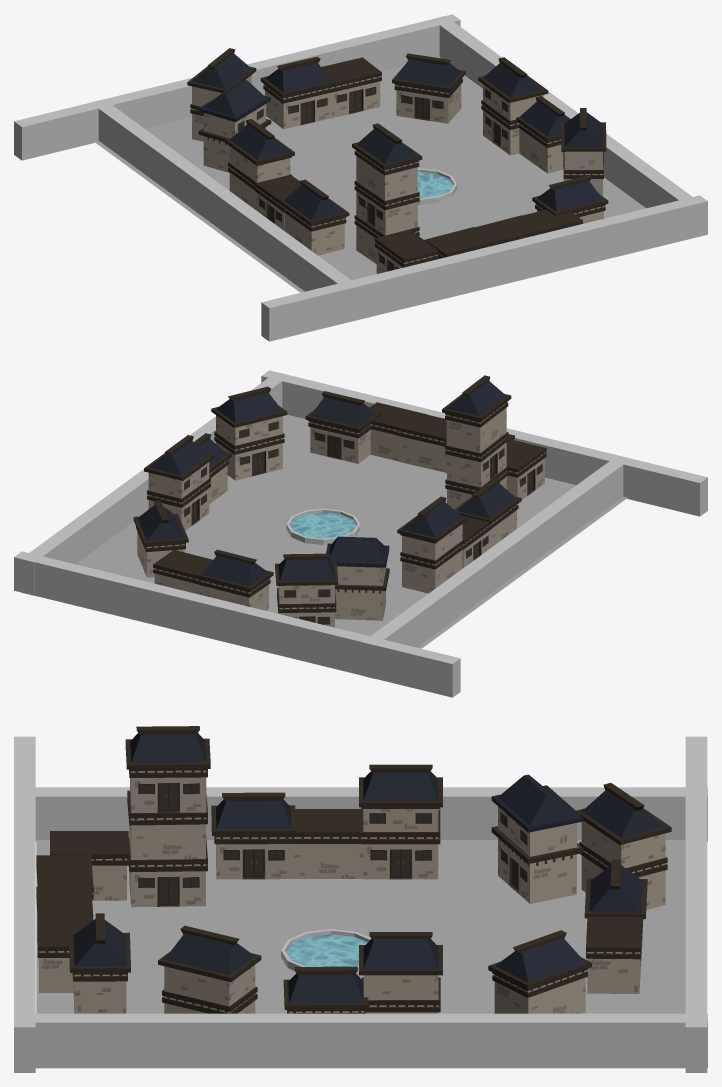
Rendered from main_hub.fbx.
The picture shows the model from 3 angles, top to bottom: view 1: azimuth 30°, elevation 25°; view 2: azimuth 150°, elevation 25°; view 3: azimuth 270°, elevation 25°; orthographic projection. The views are drawn at different scales.
Parts seen in each view (by area): view 1: Floor_Comb, polySurface55, polySurface54, polySurface53, polySurface16, polySurface35, polySurface29, polySurface41, polySurface44, polySurface24, polySurface1, polySurface38 (+13 smaller); view 2: Floor_Comb, polySurface54, polySurface53, polySurface55, polySurface16, polySurface42, polySurface24, polySurface1, polySurface41, polySurface30, polySurface43, polySurface44 (+13 smaller); view 3: Floor_Comb, polySurface16, polySurface53, polySurface24, polySurface1, polySurface54, polySurface55, polySurface42, polySurface30, polySurface38, polySurface44, polySurface35 (+14 smaller).
Part boxes in pixels (x1,y1,x2,y2): Floor_Comb: [94, 57, 645, 292]; polySurface55: [261, 195, 707, 341]; polySurface54: [14, 14, 460, 160]; polySurface53: [90, 99, 356, 291]; polySurface16: [432, 16, 698, 208]; polySurface35: [392, 53, 465, 123]; polySurface29: [260, 56, 336, 129]; polySurface41: [478, 57, 548, 155]; polySurface44: [352, 123, 422, 200]; polySurface24: [225, 119, 294, 210]; polySurface1: [198, 79, 271, 172]; polySurface38: [279, 179, 349, 255]; Floor_Comb: [76, 414, 627, 648]; polySurface54: [14, 551, 460, 697]; polySurface53: [362, 457, 627, 678]; polySurface55: [261, 370, 707, 516]; polySurface16: [21, 373, 287, 595]; polySurface42: [211, 386, 287, 480]; polySurface24: [397, 496, 467, 593]; polySurface1: [326, 536, 389, 620]; polySurface41: [144, 435, 213, 530]; polySurface30: [275, 553, 338, 627]; polySurface43: [305, 391, 381, 463]; polySurface44: [442, 375, 511, 452]; Floor_Comb: [36, 840, 685, 1013]; polySurface16: [21, 1013, 707, 1068]; polySurface53: [20, 787, 707, 841]; polySurface24: [359, 764, 442, 879]; polySurface1: [491, 774, 583, 903]; polySurface54: [685, 736, 707, 1072]; polySurface55: [14, 736, 35, 1072]; polySurface42: [158, 925, 261, 1013]; polySurface30: [576, 783, 671, 909]; polySurface38: [211, 792, 295, 879]; polySurface44: [125, 726, 210, 813]; polySurface35: [488, 930, 591, 1013].
Size of the model in its own units: 3027 by 824 by 3053.
